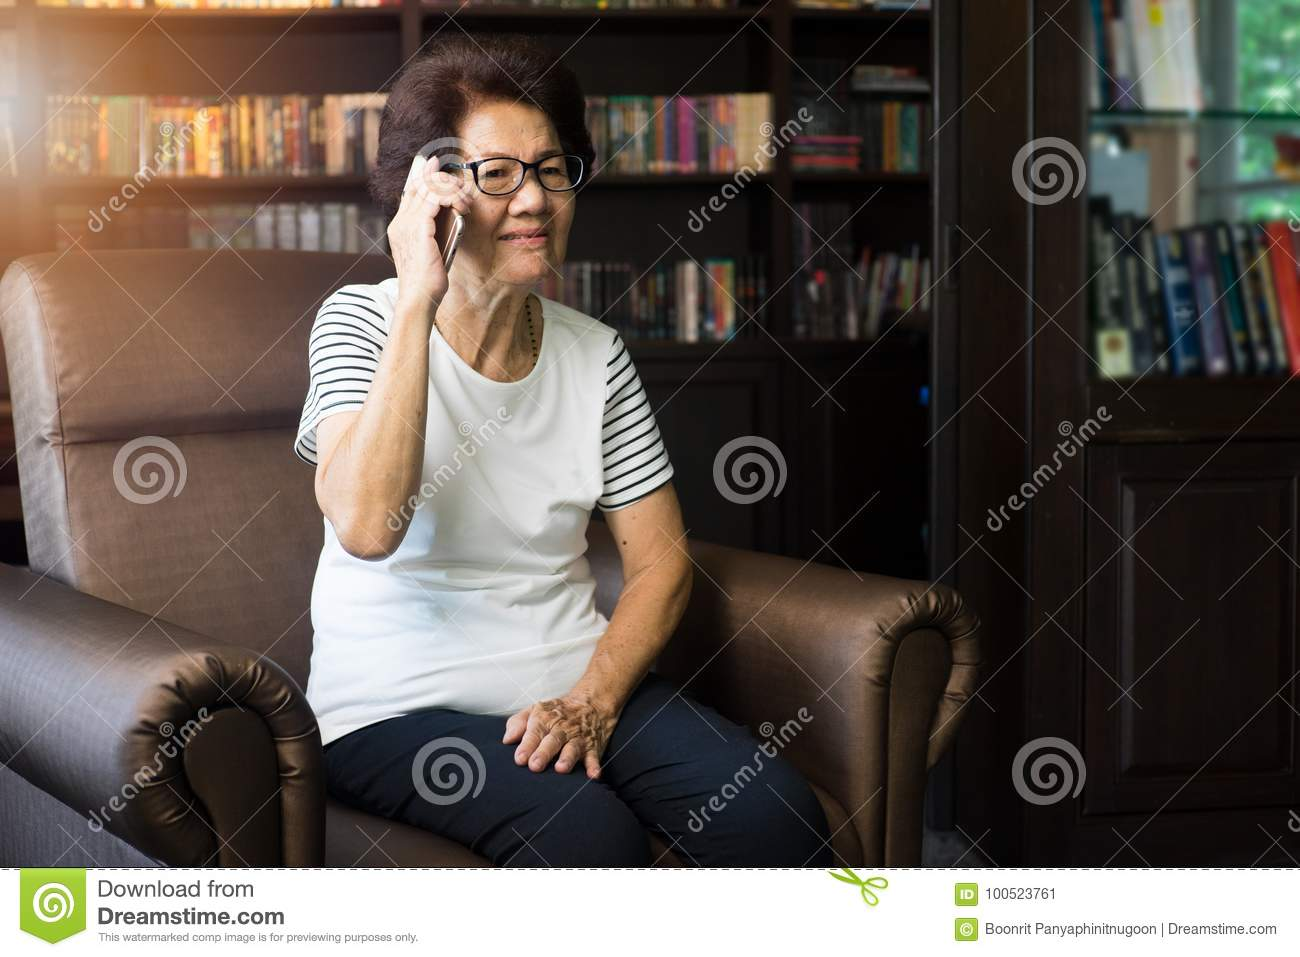talk: (387, 143, 576, 336)
